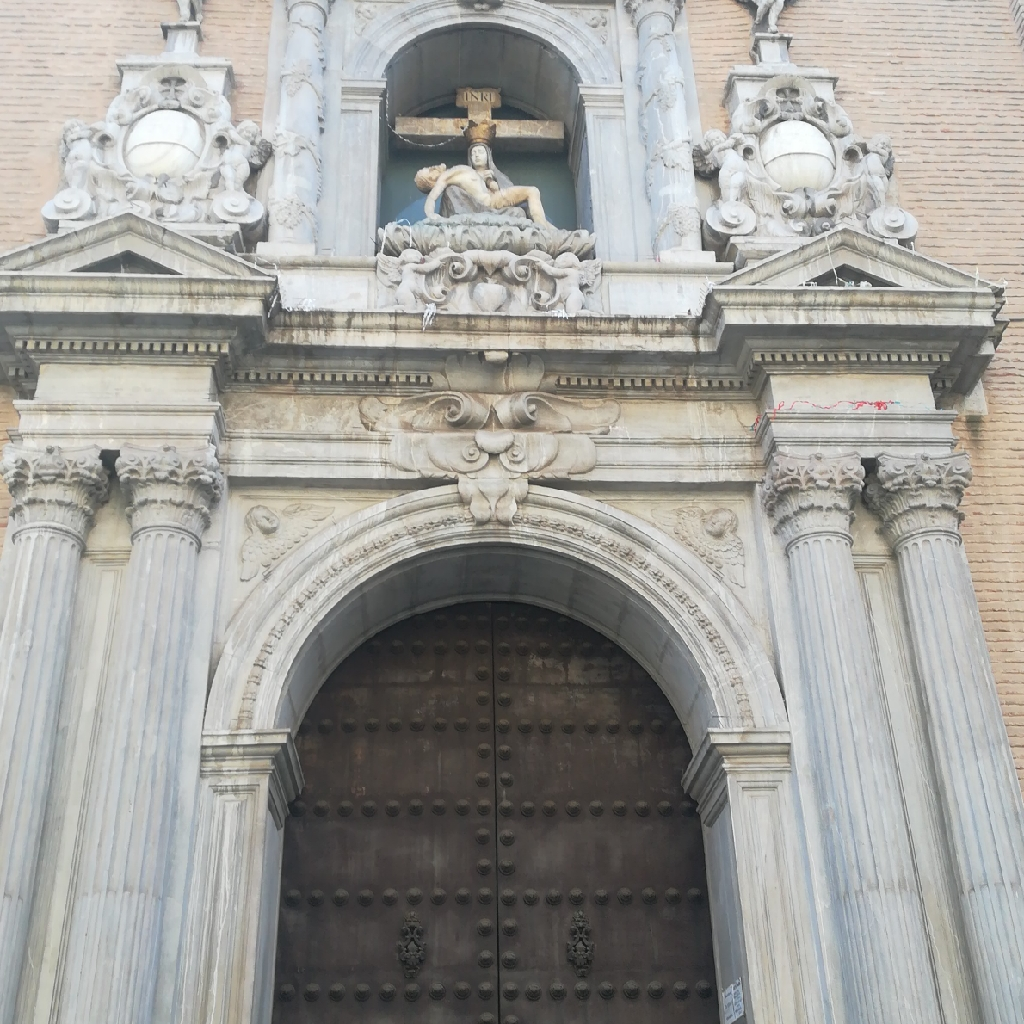arco-medio-punto: (254, 524, 735, 845), (371, 10, 595, 136)
fronton: (698, 222, 1001, 320), (0, 207, 283, 302)
